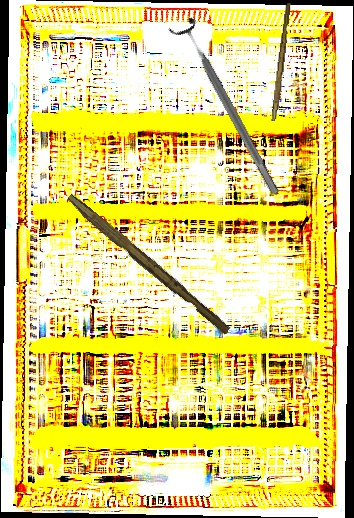Fixation Ring: (166, 14, 290, 202)
Scalpel Handle: (62, 193, 234, 336), (271, 2, 292, 122)
